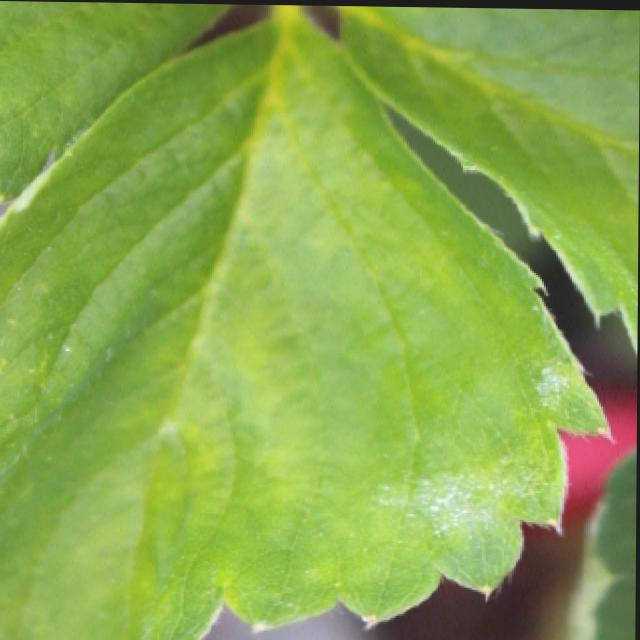Powdery Mildew Leaf: (0, 3, 612, 640), (336, 4, 640, 362)
